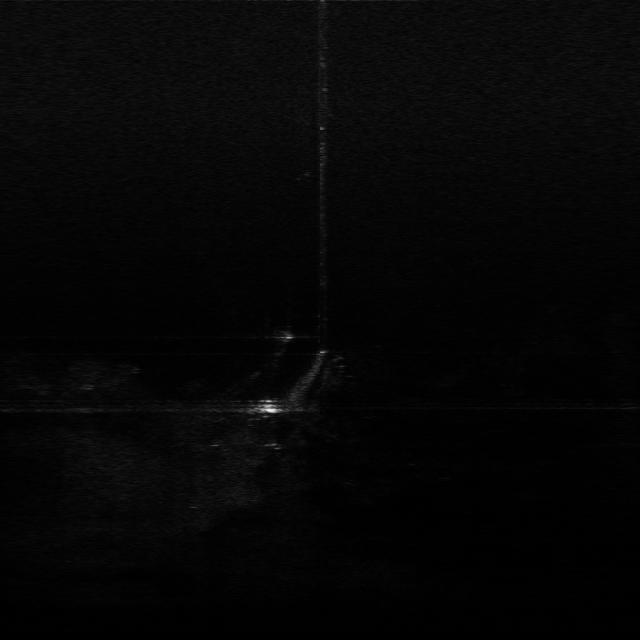rov: (246, 399, 288, 417)
